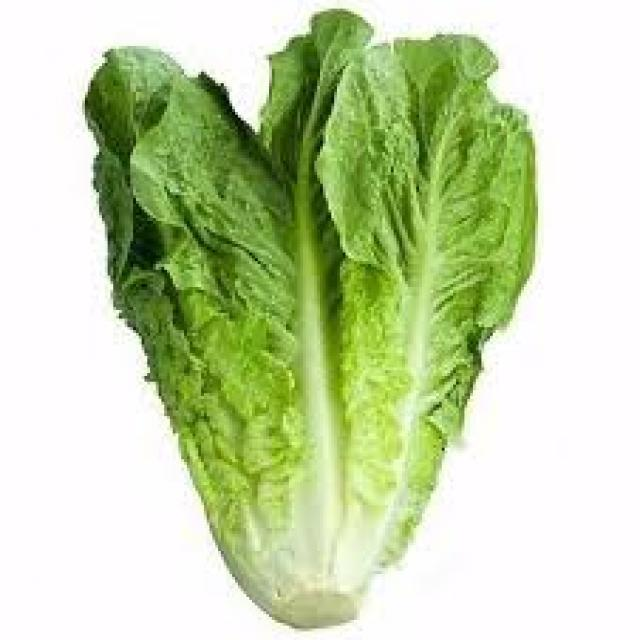Lettuce: (81, 6, 542, 632)
